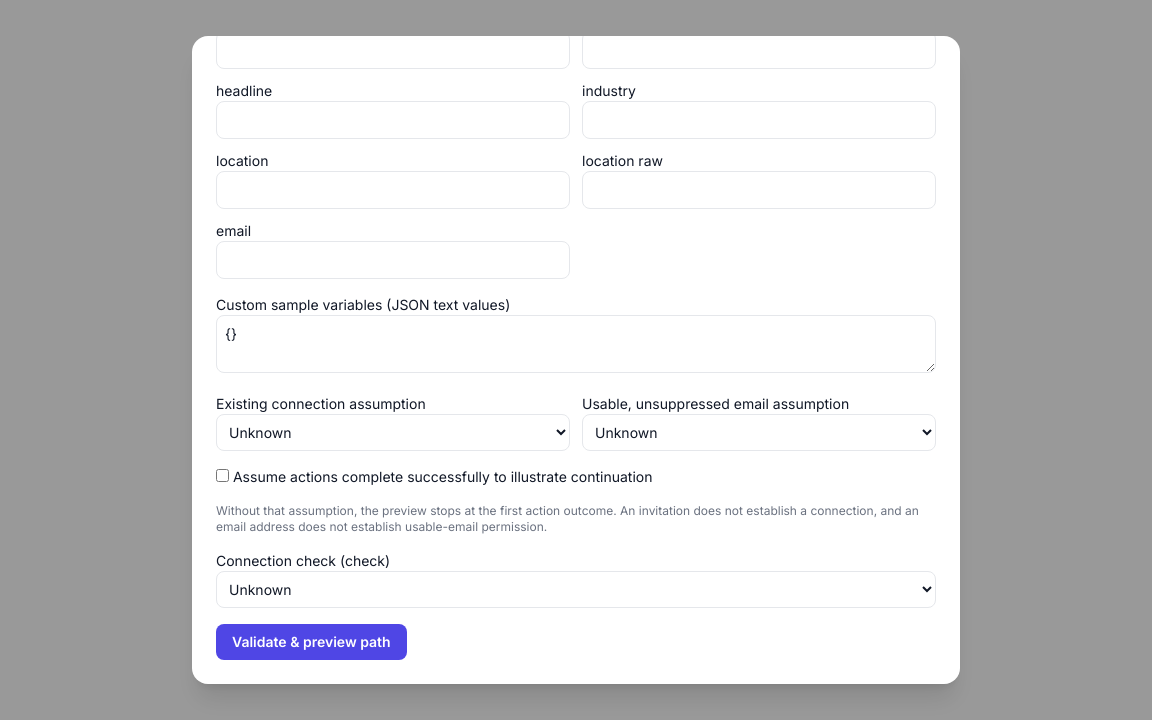
Supplied-data sequence review › renders invalid and unavailable results without a misleading successful path
(page scrolled)
Click the button "Validate & preview path" at (311, 642), box [216, 624, 407, 660]
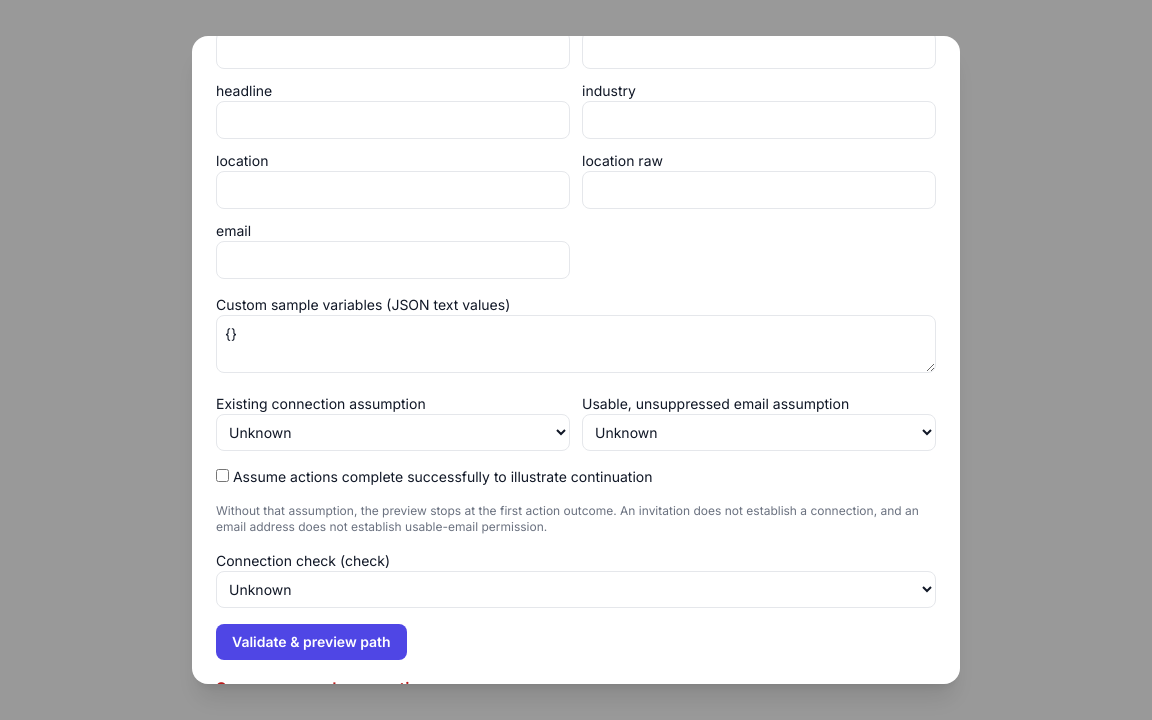
Click the button "Validate & preview path" at (311, 642), box [216, 624, 407, 660]
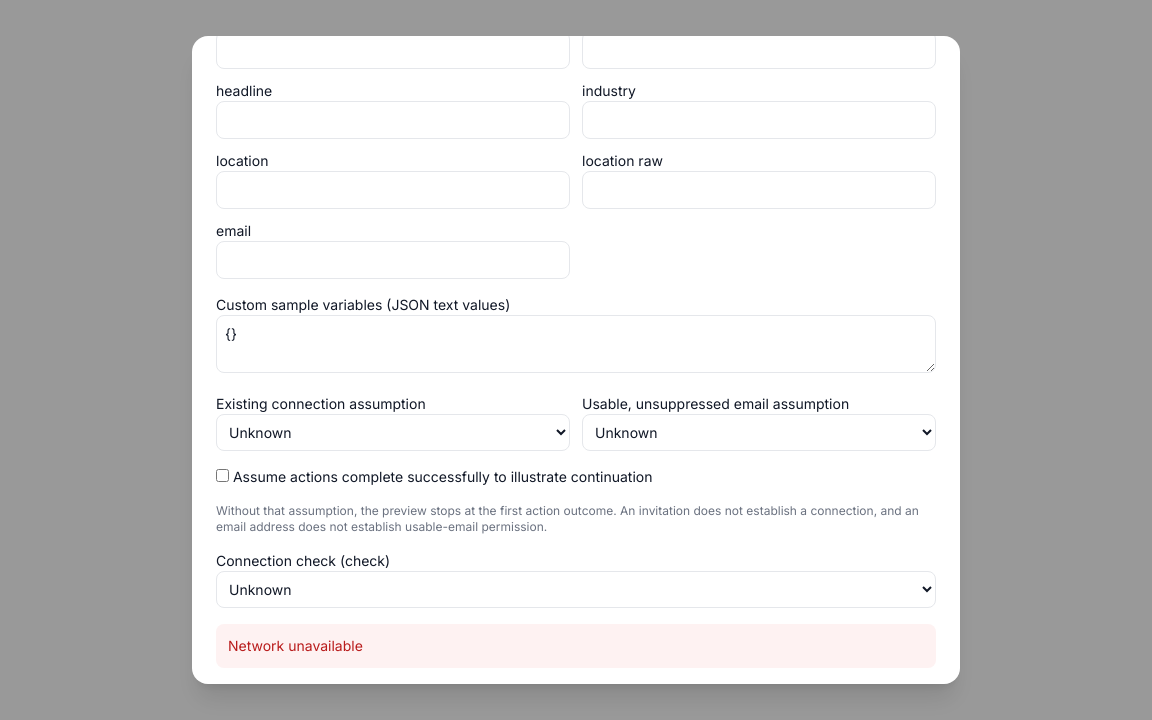
expect the text "Fix this branch" is not shown: met
expect the text "Network unavailable" is shown: met, box [216, 624, 936, 668]
